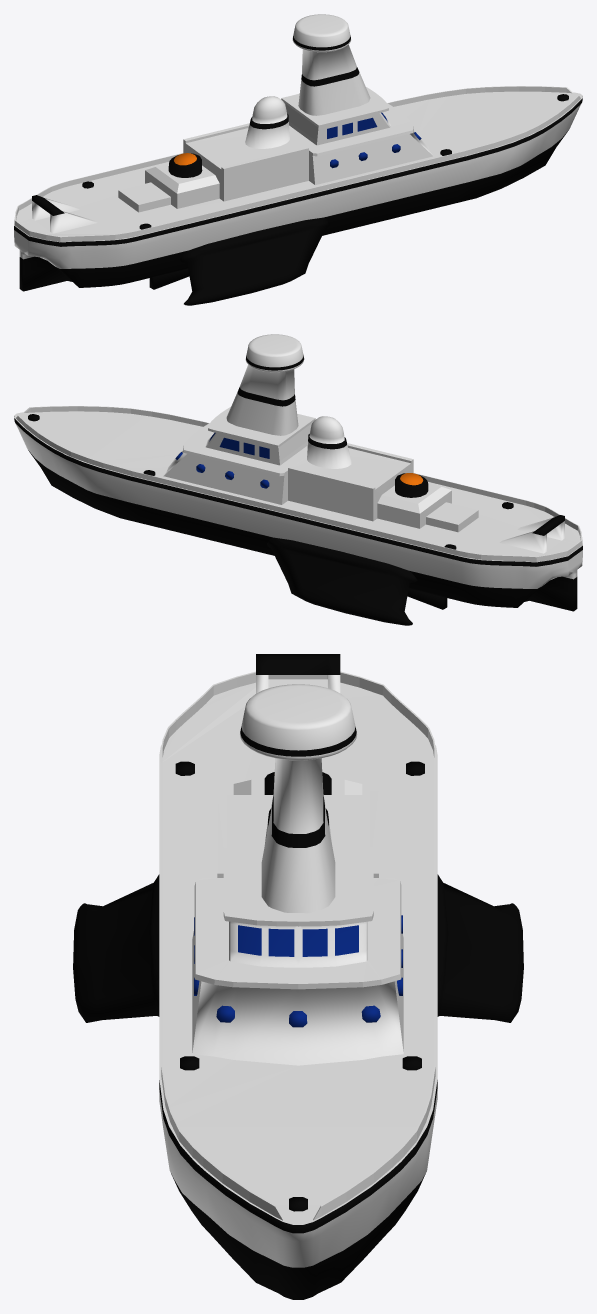
The model's file is boat.dae.
The picture shows the model from 3 angles, top to bottom: view 1: azimuth 30°, elevation 25°; view 2: azimuth 150°, elevation 25°; view 3: azimuth 270°, elevation 25°; orthographic projection. The views are drawn at different scales.
Visible parts, largest first — view 1: base_link; view 2: base_link; view 3: base_link.
Part boxes in pixels (x1,y1,x2,y2): base_link: (14,14,582,305); base_link: (14,334,582,625); base_link: (73,654,523,1299).
Bounding box in the file's own units: 483 × 168 × 173.
